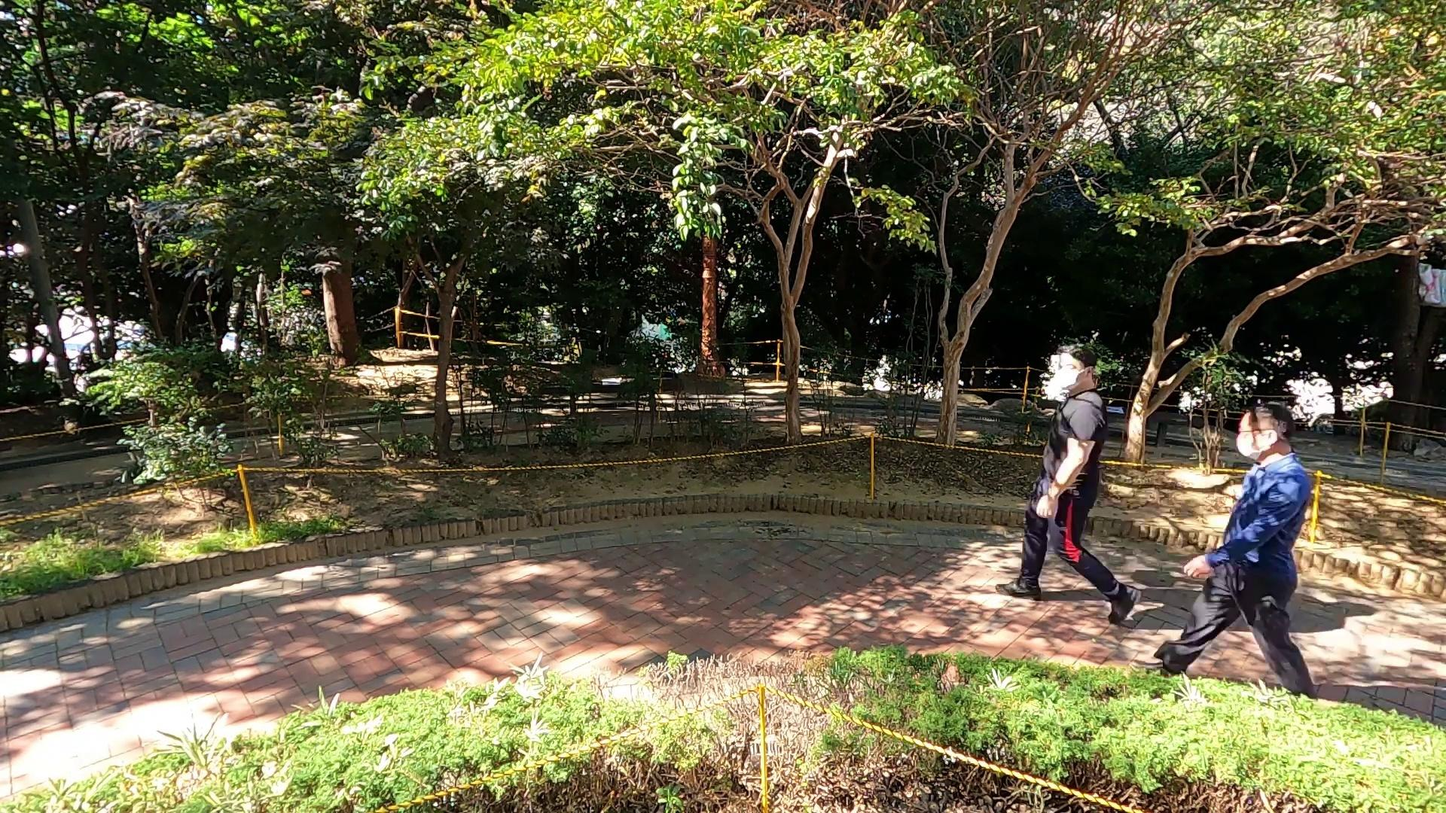person: (1151, 396, 1363, 704), (993, 334, 1167, 634)
